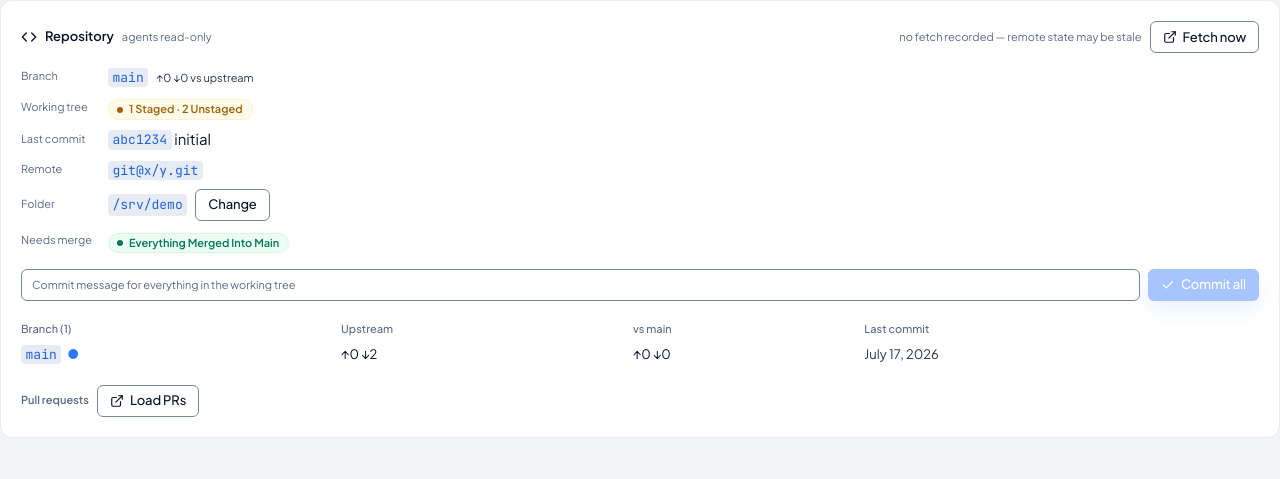
Test: GitSnapshotPanel — Phase 12d gated commit / merge › surfaces the disabled (409) flag message instead of failing silently
Type "anything" into the field with placeholder "Commit message for everything in the working tree" at (580, 285), box [21, 269, 1140, 301]
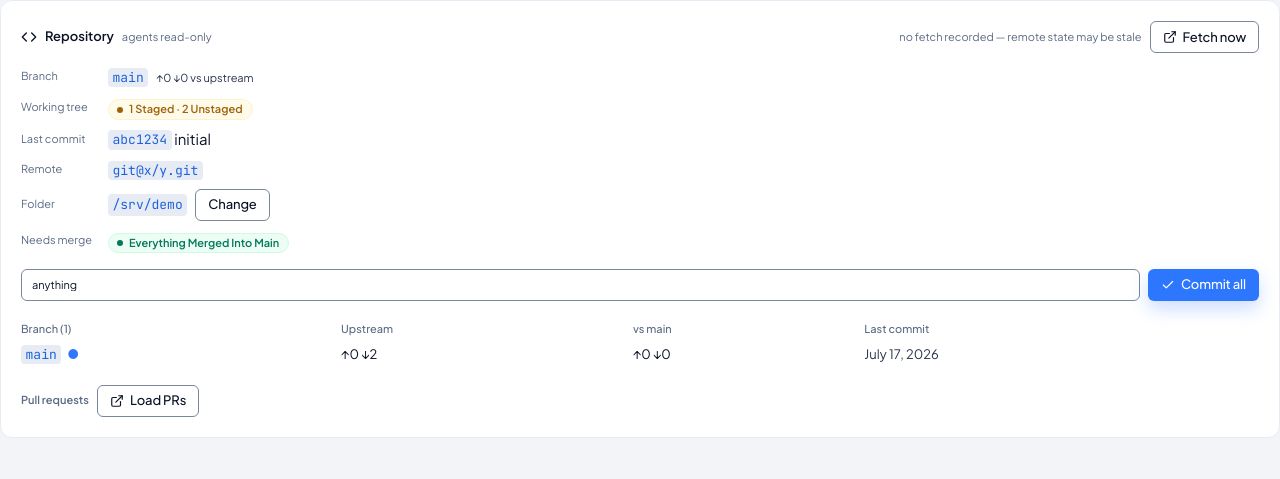
Click the button "Commit all" at (1203, 285), box [1148, 269, 1259, 301]
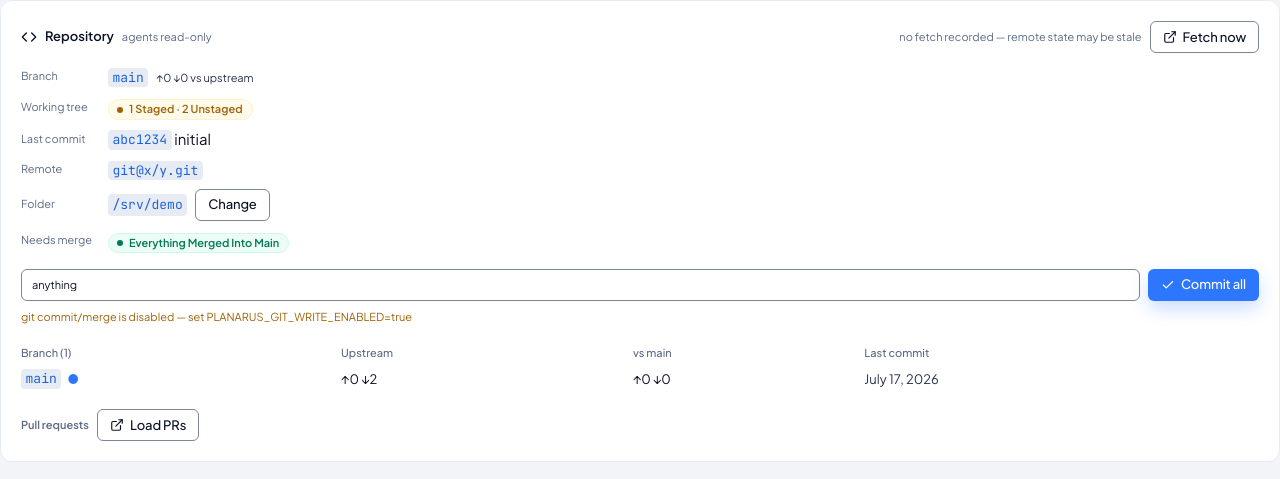
Result: the text "PLANARUS_GIT_WRITE_ENABLED" is shown at [21, 310, 412, 323]
